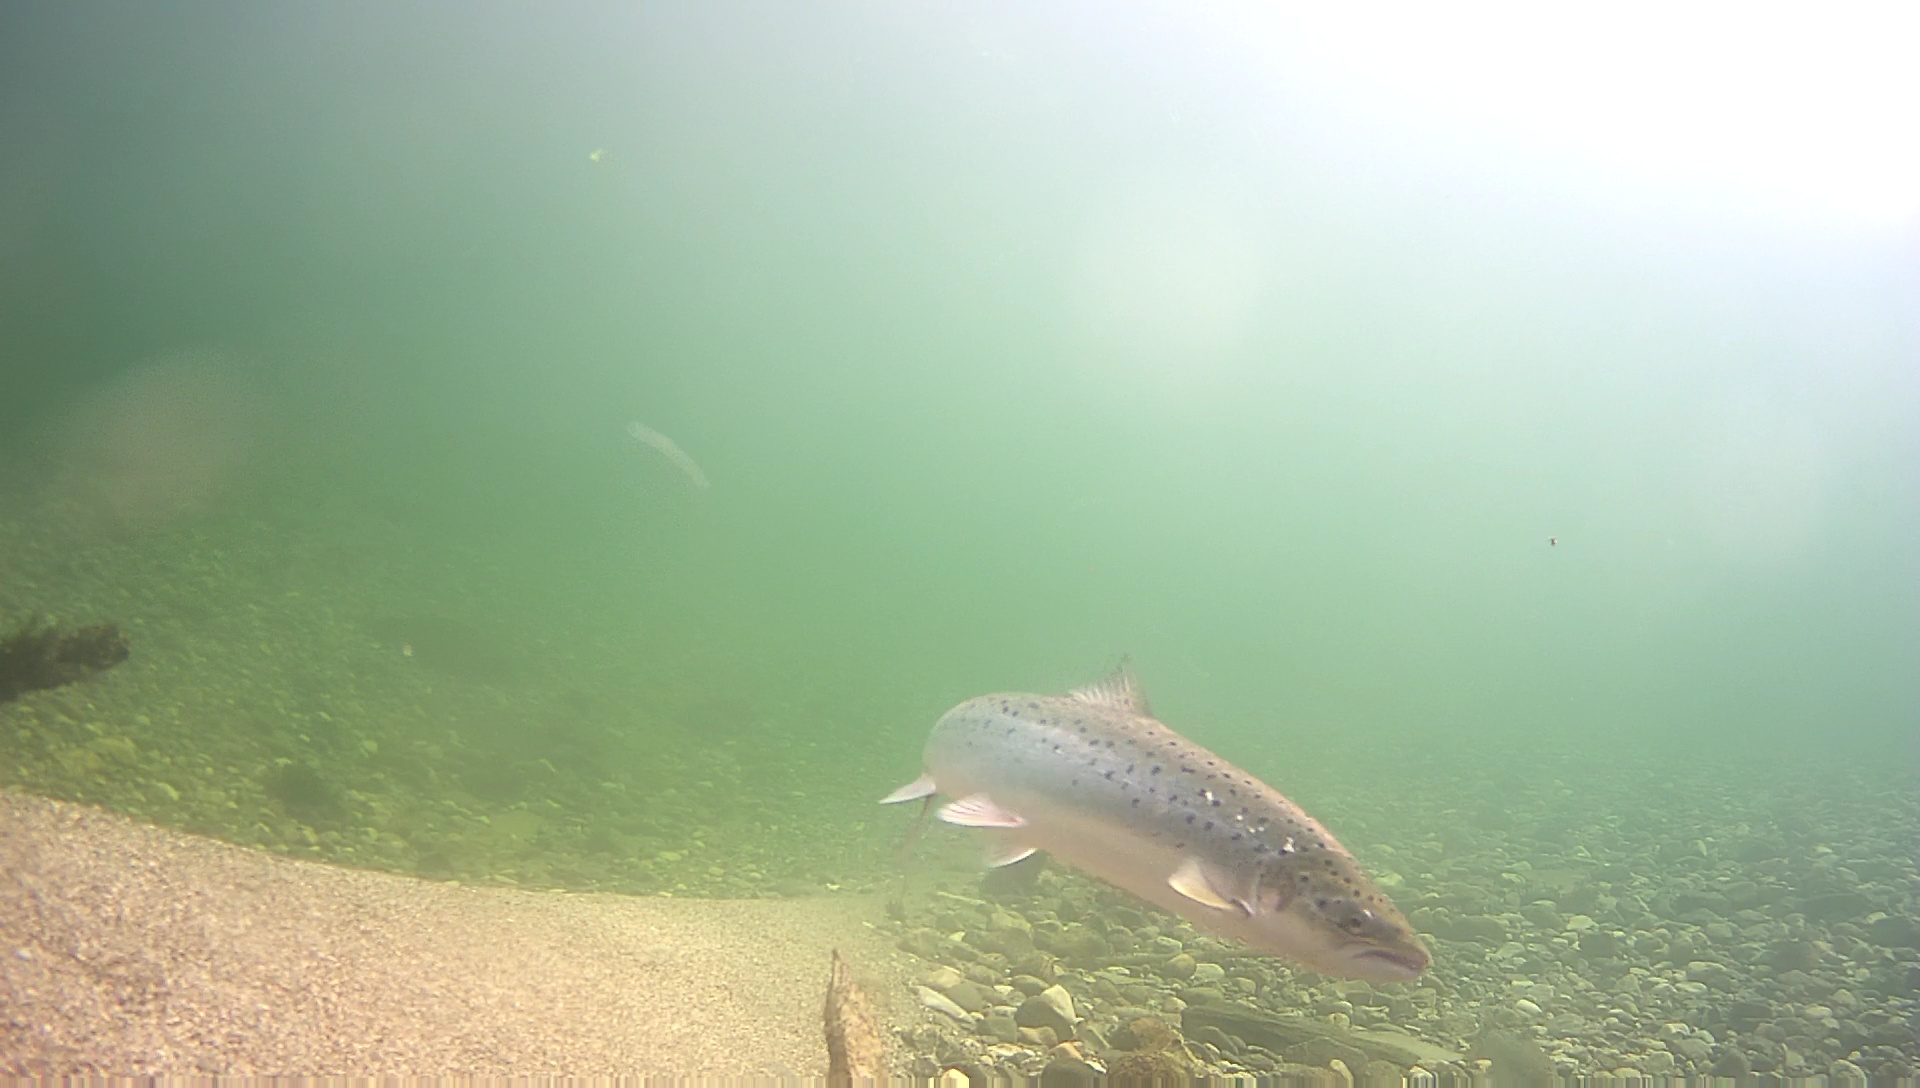salmon: (877, 651, 1433, 990)
